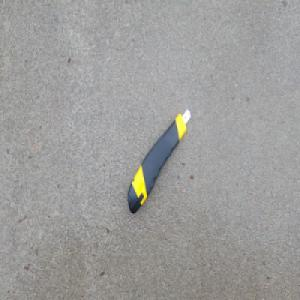Cutter: (127, 107, 191, 215)
